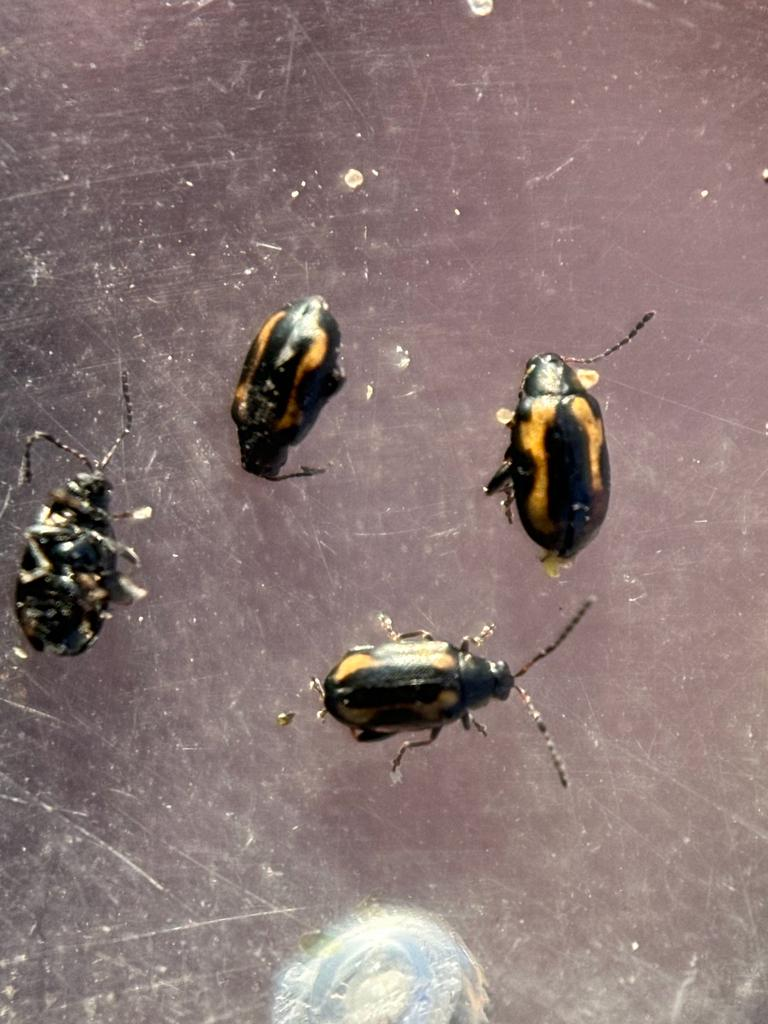flea_beetle: (292, 569, 628, 822), (443, 287, 690, 594), (0, 360, 183, 700), (190, 248, 387, 531)
